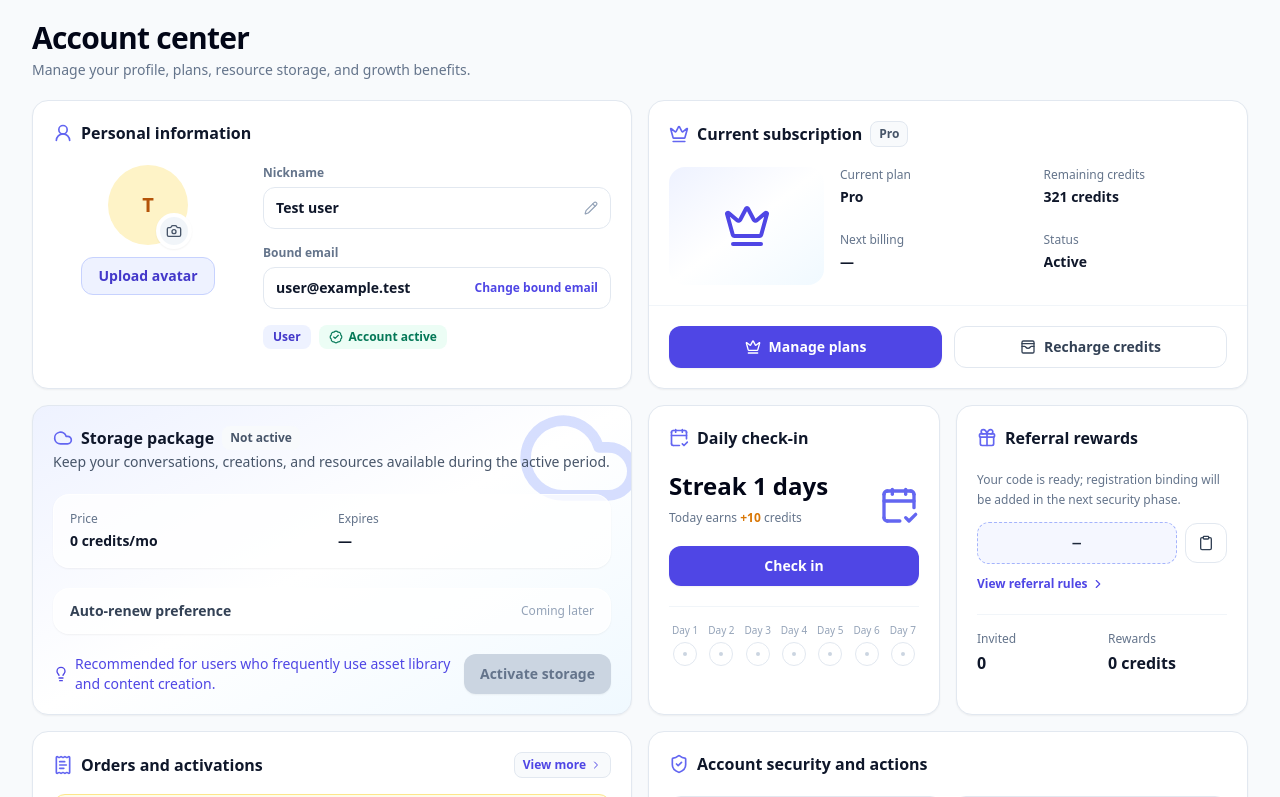
Scenario: AccountPanel user Order cancellation › routes a desktop Activity Modal cancellation through the shared confirmation
Click the button "View more" at [562, 765], box [514,752,611,778]
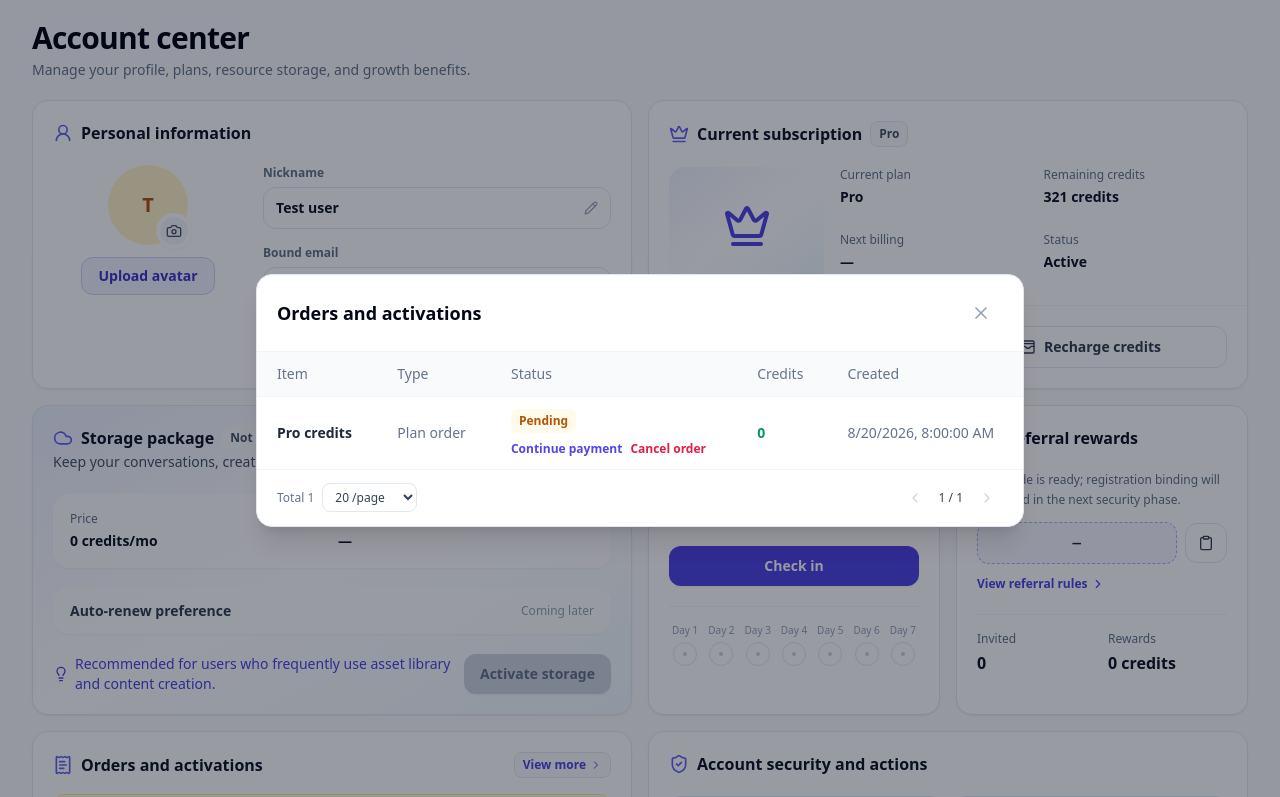
Expected: the dialog shows "Continue payment", [511,440,622,456]
Expected: the button "Cancel order" is shown
Click the button "Cancel order" at [668, 448], box [630,440,706,456]
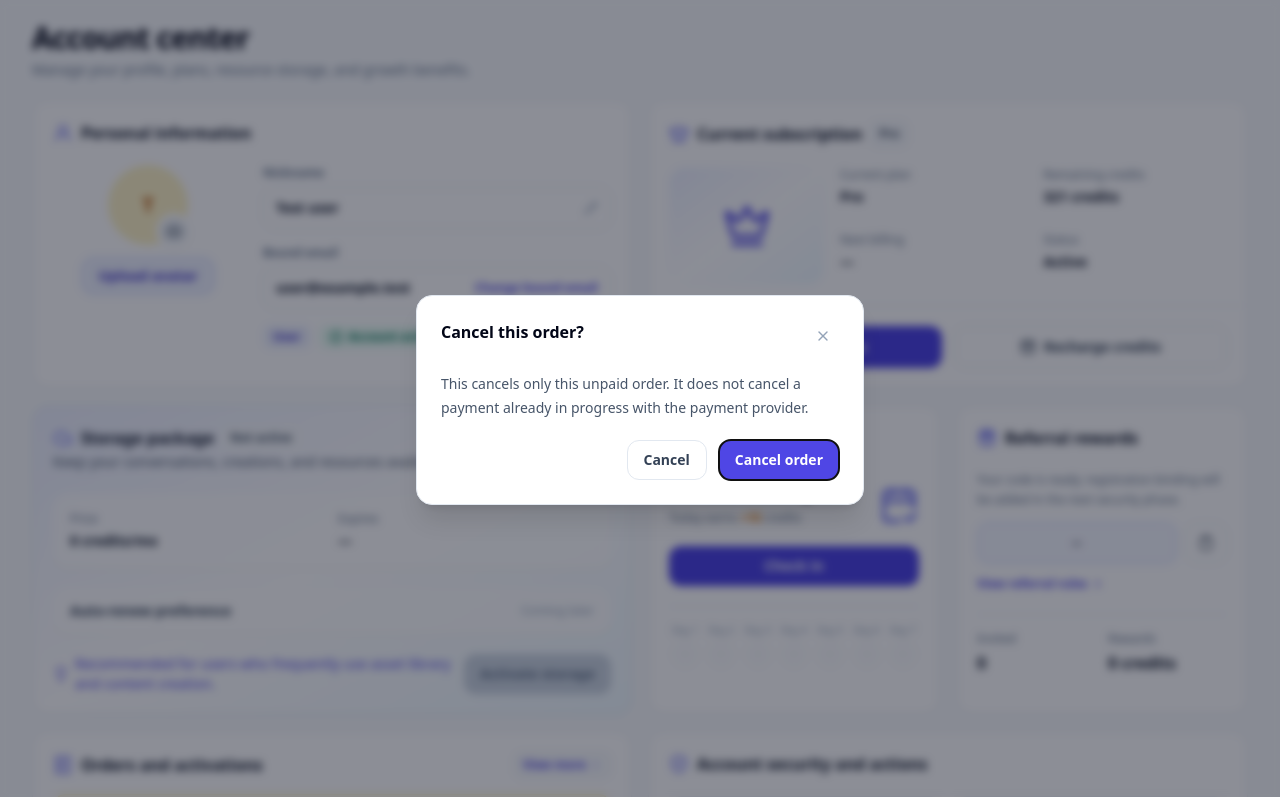
Expected: the dialog shows "Cancel this order?", [441,321,584,343]
